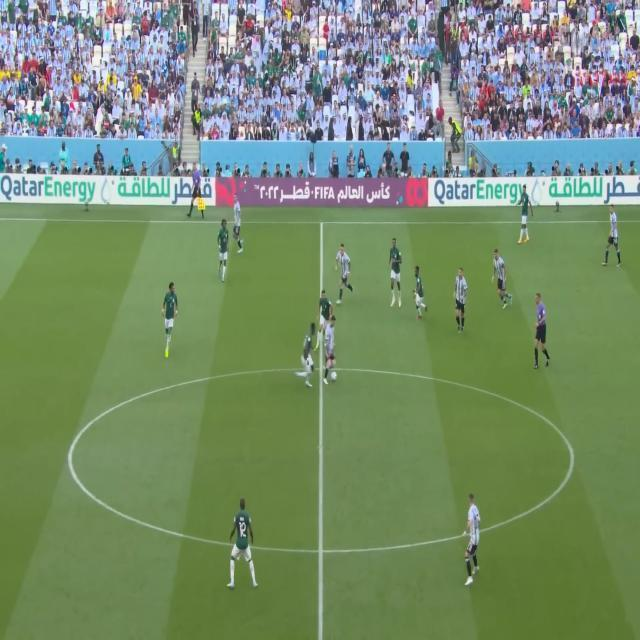player: (223, 497, 263, 594), (466, 491, 484, 592), (161, 274, 182, 358), (386, 233, 406, 321), (333, 239, 356, 309), (491, 244, 514, 314), (604, 198, 626, 269), (322, 314, 342, 388), (300, 315, 317, 393), (217, 216, 235, 285), (316, 285, 333, 351), (454, 258, 469, 332), (412, 261, 430, 322), (231, 191, 247, 257), (516, 183, 532, 247)
